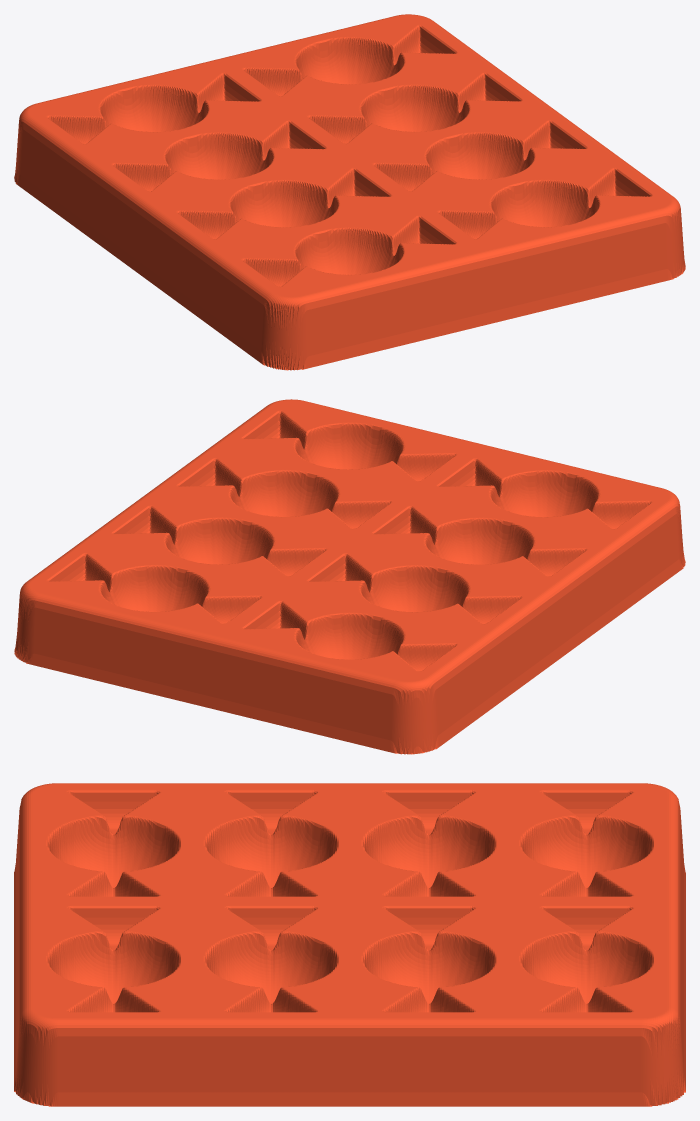
Rendered from mold.glb.
The picture shows the model from 3 angles, top to bottom: view 1: azimuth 30°, elevation 25°; view 2: azimuth 150°, elevation 25°; view 3: azimuth 270°, elevation 25°; orthographic projection. The views are drawn at different scales.
Parts seen in each view (by area): view 1: geometry_0; view 2: geometry_0; view 3: geometry_0.
Boxes of the visible parts, x1=… form: geometry_0: x1=14, y1=14, x2=685, y2=370; geometry_0: x1=14, y1=399, x2=685, y2=754; geometry_0: x1=14, y1=783, x2=685, y2=1106.
Bounding box in the file's own units: 0.1222 × 0.0185 × 0.1393.
